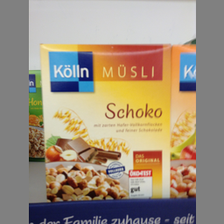cereal: (39, 43, 173, 202)
